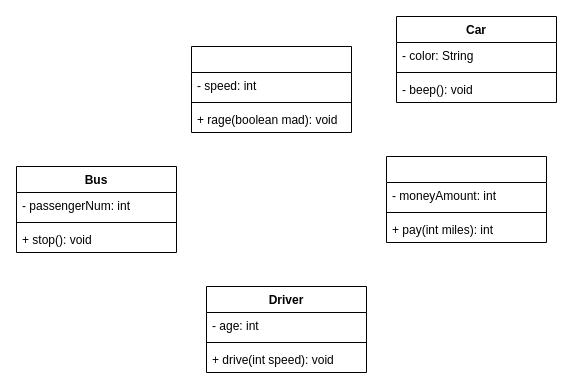
Image size: 573x389. Some labels were removed from this diagram. The shapes that lost their labels are listed below. From the top down, each one's box as (x1, y1, x2, y2) in pixels, then its label:
(190, 46, 352, 132): Vehicle
(386, 156, 546, 242): Passenger
